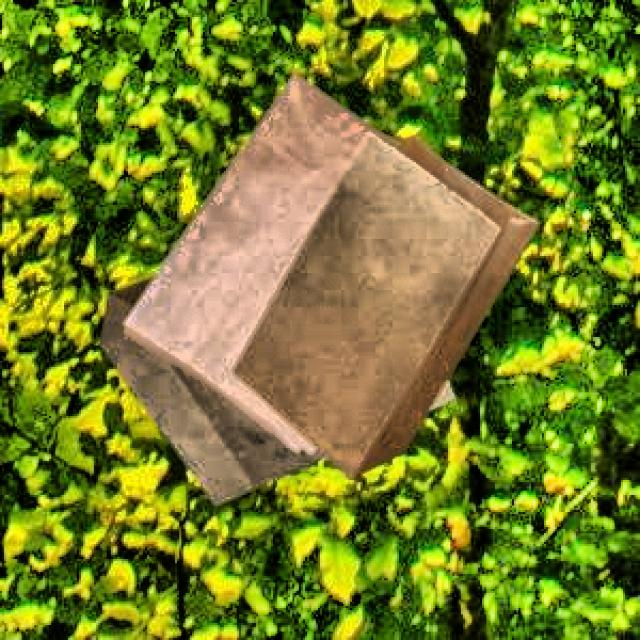Paper-bag: (118, 63, 443, 451), (229, 127, 544, 483), (99, 223, 456, 512)
